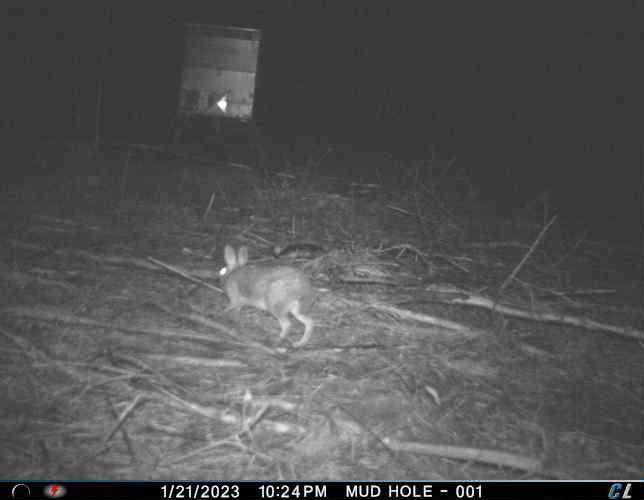Rabbit: (214, 239, 320, 351)
